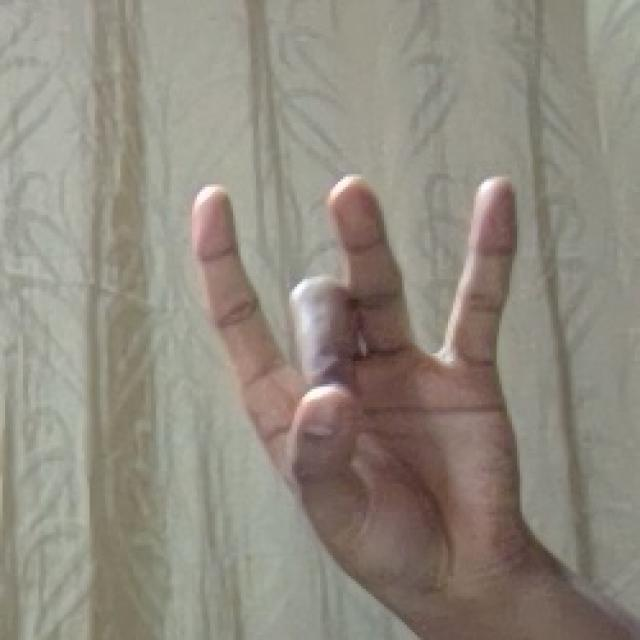Numeric-8: (190, 168, 524, 590)
